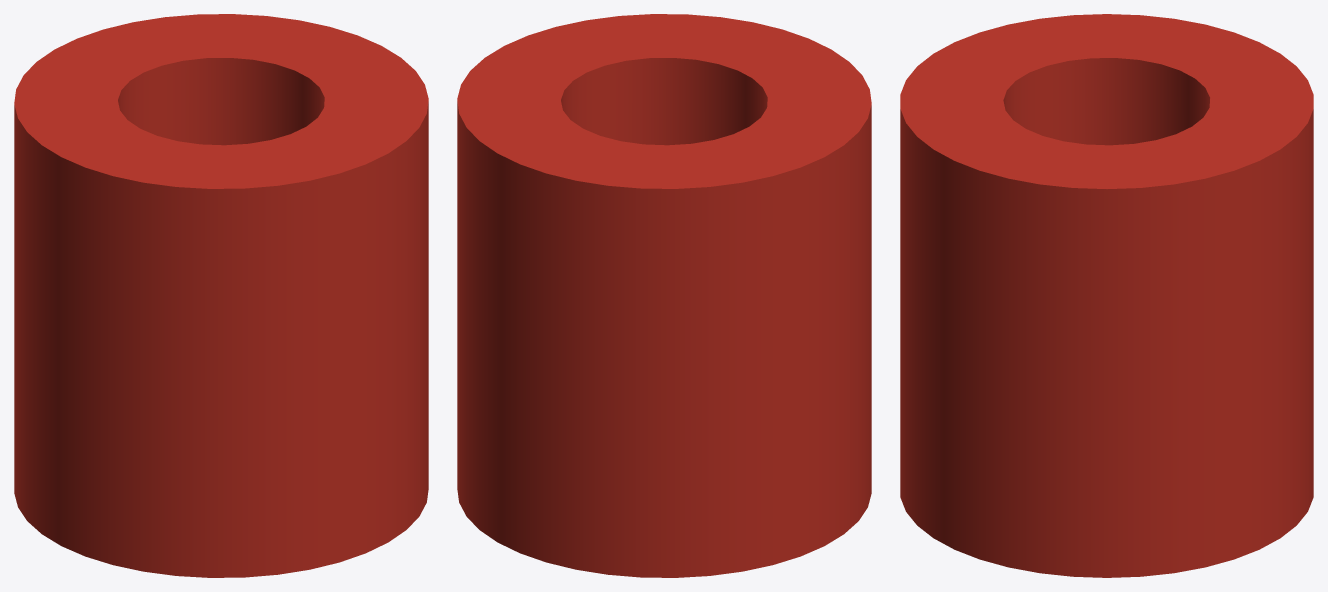
File: blade.obj
3 views of the same model, side by side, from view 1: azimuth 30°, elevation 25°; view 2: azimuth 150°, elevation 25°; view 3: azimuth 270°, elevation 25° (orthographic).
Parts seen in each view (by area): view 1: Body1; view 2: Body1; view 3: Body1.
Boxes of the visible parts, x1,y1,x2,y2 form: Body1: (14, 14, 428, 577); Body1: (457, 14, 871, 577); Body1: (900, 14, 1313, 577).
Bounding box in the file's own units: 20 × 20.7 × 19.93.
